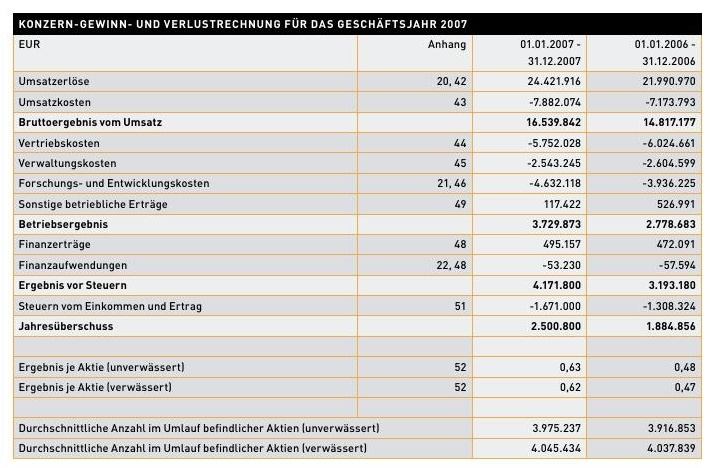table: (0, 0, 713, 468)
